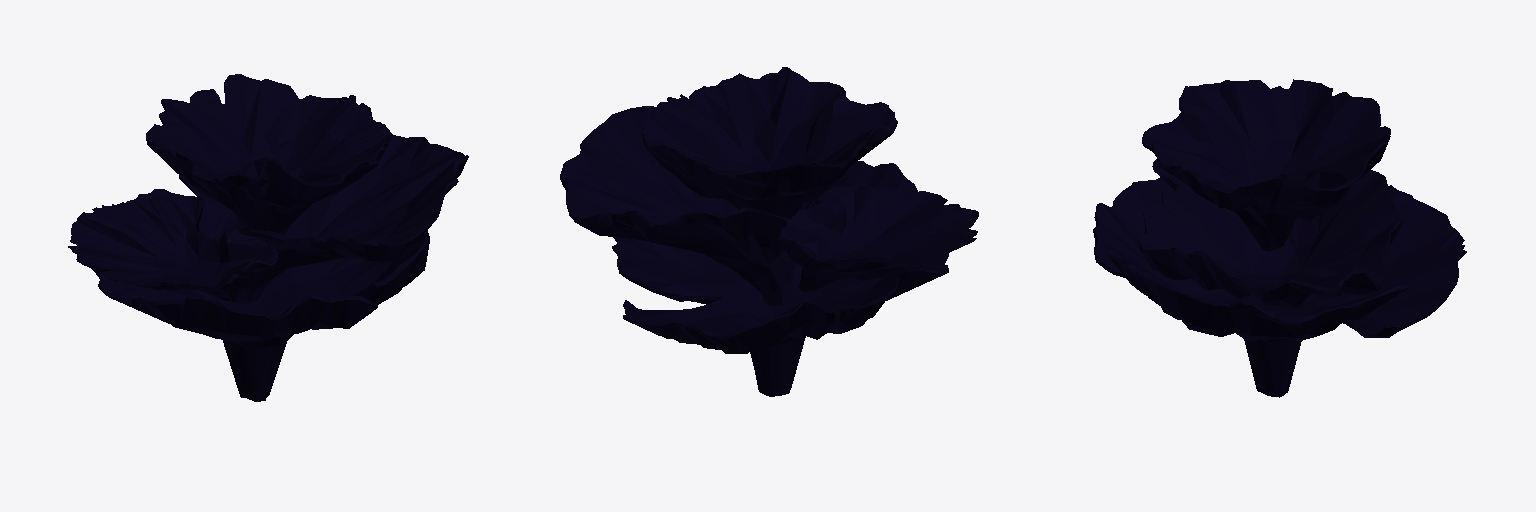
Rendered from Object_MontiporaCoral2.obj.
The picture shows the model from 3 angles: view 1: azimuth 30°, elevation 25°; view 2: azimuth 150°, elevation 25°; view 3: azimuth 270°, elevation 25°; orthographic projection.
Visible parts, largest first — view 1: MontiporaCoral2; view 2: MontiporaCoral2; view 3: MontiporaCoral2.
Boxes of the visible parts, <box> form: MontiporaCoral2: <box>68,74,468,401</box>; MontiporaCoral2: <box>560,67,978,396</box>; MontiporaCoral2: <box>1093,79,1466,397</box>.
Size of the model in its own units: 3.07 by 2.09 by 2.59.